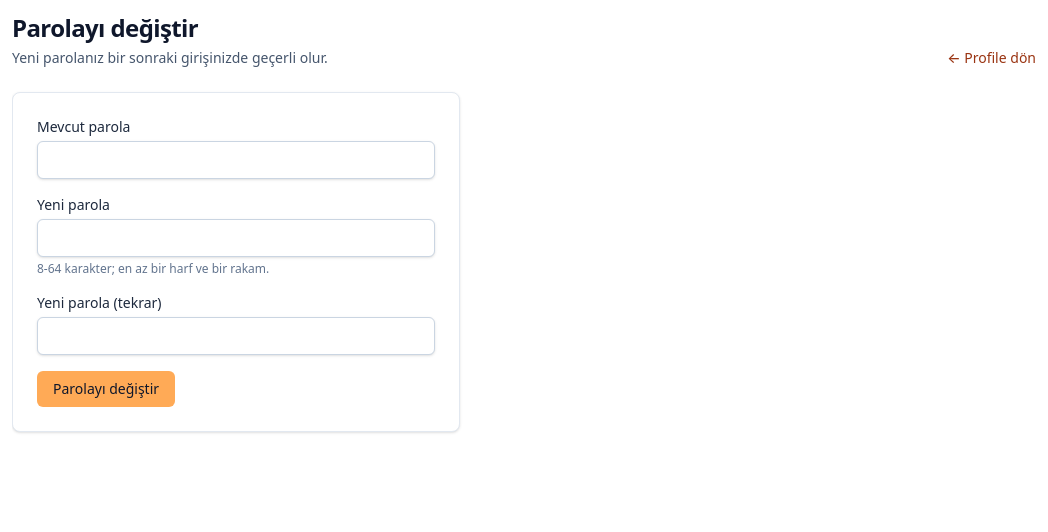
Test: ChangePasswordPage › changes the password and clears the form
Type "EskiParola1" into the password field labelled "Mevcut parola". click: (236, 160)
box: [37,141,435,179]
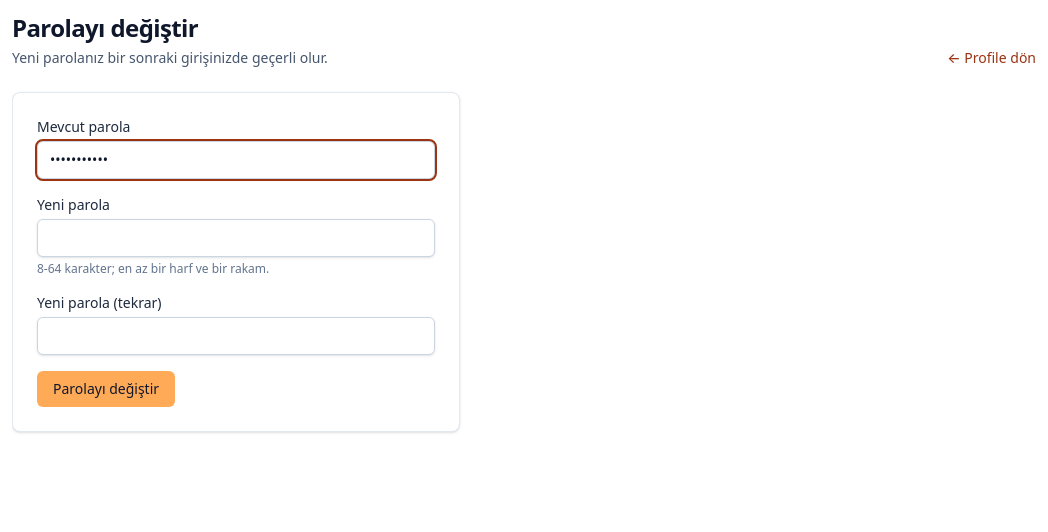
Type "YeniParola2" into the password field labelled "Yeni parola". click: (236, 238)
box: [37,219,435,257]
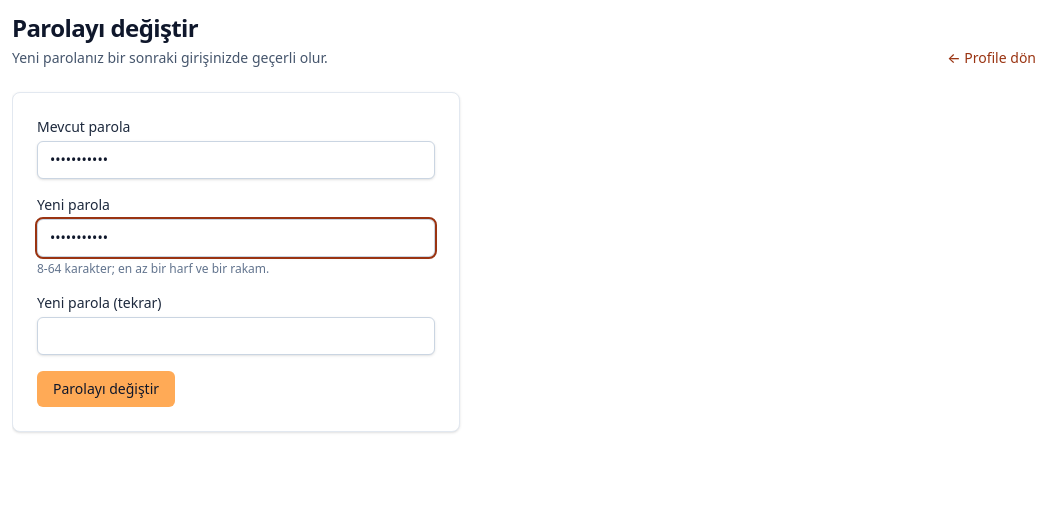
Type "YeniParola2" into the password field labelled "Yeni parola (tekrar)". click: (236, 336)
box: [37,317,435,355]
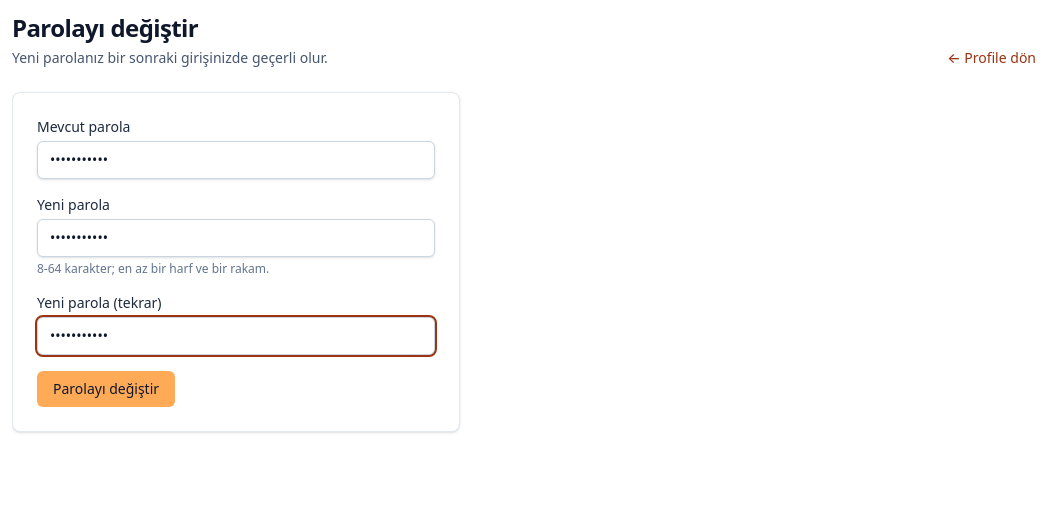
Click the button "Parolayı değiştir". click: (106, 389)
box: [37,371,175,407]
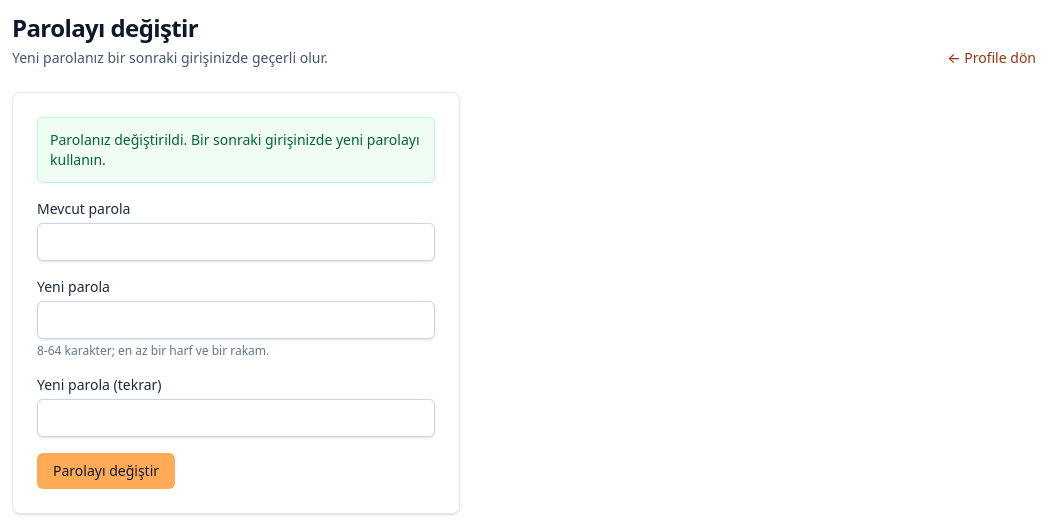
Result: the text "Parolanız değiştirildi. Bir sonraki girişinizde yeni parolayı kullanın." is shown at [37,117,435,183]
Result: the password field labelled "Mevcut parola" is empty at [37,223,435,261]
